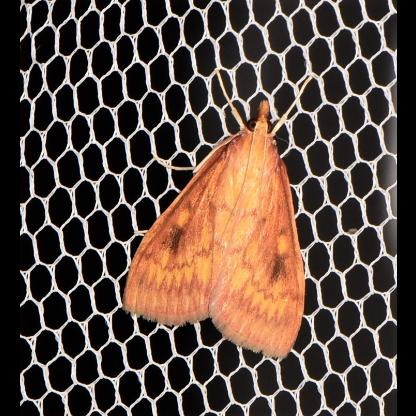Asian Corn Borer Moth: (119, 64, 315, 364)
